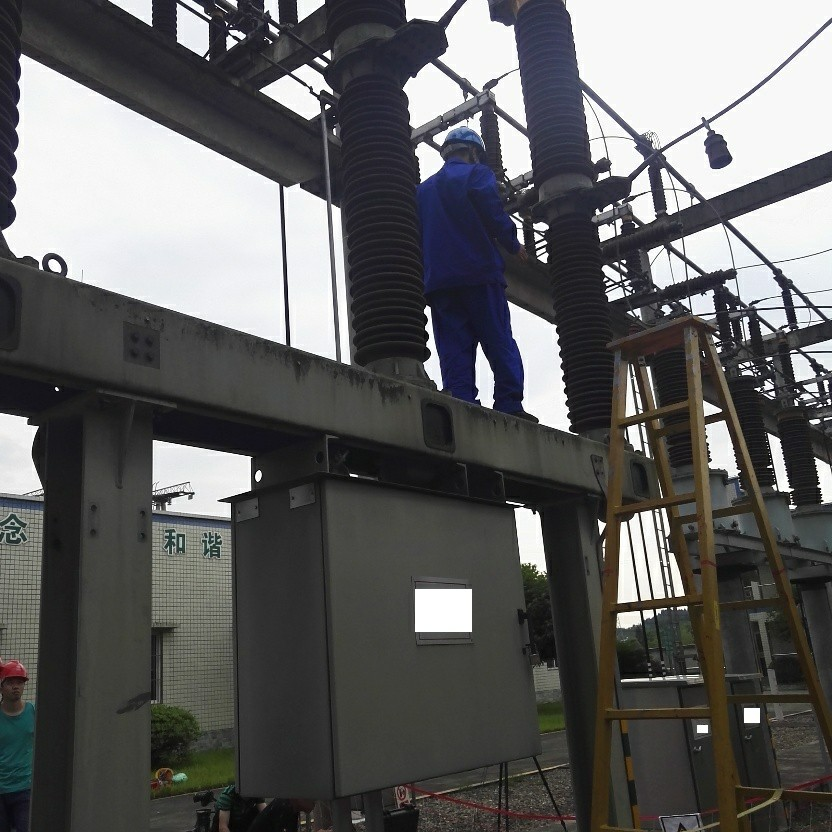hat: (435, 120, 488, 169), (1, 656, 31, 714)
